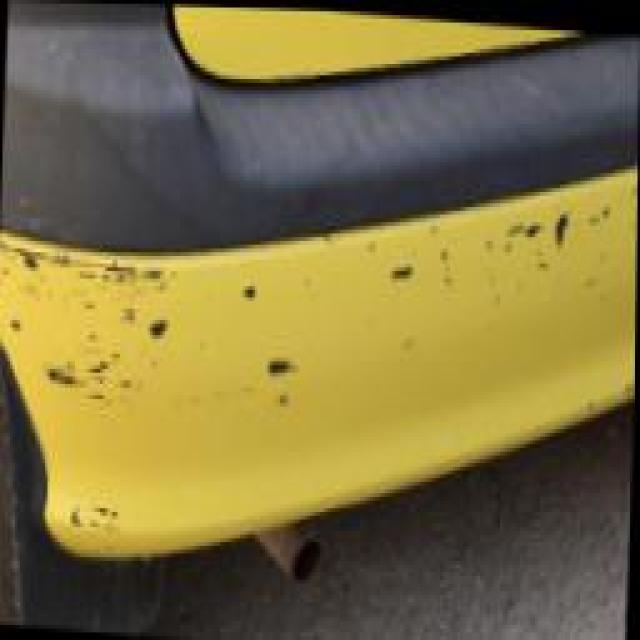Bumper: (0, 60, 639, 630)
